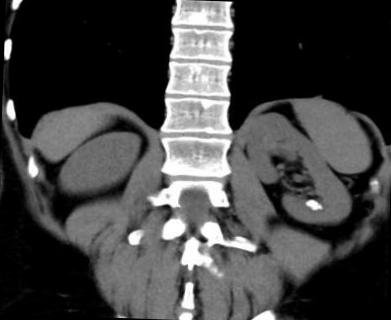Tas_Var: (304, 199, 318, 207), (318, 202, 324, 210), (310, 206, 318, 210)
